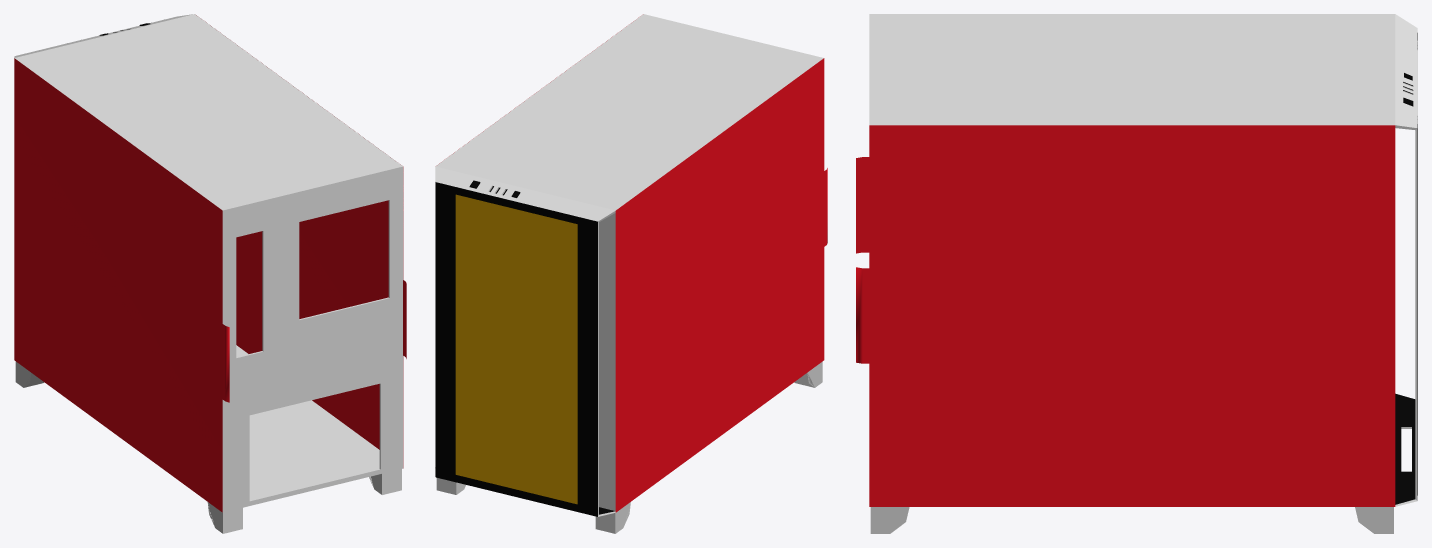
File: КОРПУС2.fbx
The picture shows the model from 3 angles, left to right: view 1: azimuth 30°, elevation 25°; view 2: azimuth 150°, elevation 25°; view 3: azimuth 270°, elevation 25°; orthographic projection. The views are drawn at different scales.
Parts seen in each view (by area): view 1: СкелетКорпуса, ЛеваяКрышка, ПраваяКрышка, ПВножка, ЛВножка; view 2: ЛеваяКрышка, Cube.001, СкелетКорпуса, ПНножка; view 3: ПраваяКрышка, СкелетКорпуса, Cube.001, ЛеваяКрышка, ЛВножка, ЛНножка.
Part boxes in pixels (bbox=[...]): СкелетКорпуса: bbox=[15, 14, 402, 512]; ЛеваяКрышка: bbox=[14, 58, 229, 512]; ПраваяКрышка: bbox=[196, 15, 406, 468]; ПВножка: bbox=[207, 502, 242, 533]; ЛВножка: bbox=[369, 469, 401, 494]; ЛеваяКрышка: bbox=[615, 58, 827, 512]; Cube.001: bbox=[435, 166, 615, 516]; СкелетКорпуса: bbox=[435, 14, 823, 510]; ПНножка: bbox=[595, 502, 630, 533]; ПраваяКрышка: bbox=[856, 125, 1395, 506]; СкелетКорпуса: bbox=[869, 14, 1395, 125]; Cube.001: bbox=[1395, 14, 1417, 506]; ЛеваяКрышка: bbox=[856, 157, 869, 253]; ЛВножка: bbox=[870, 507, 909, 533]; ЛНножка: bbox=[1355, 507, 1393, 533].
Bounding box in the file's own units: 125 × 215 × 267.
